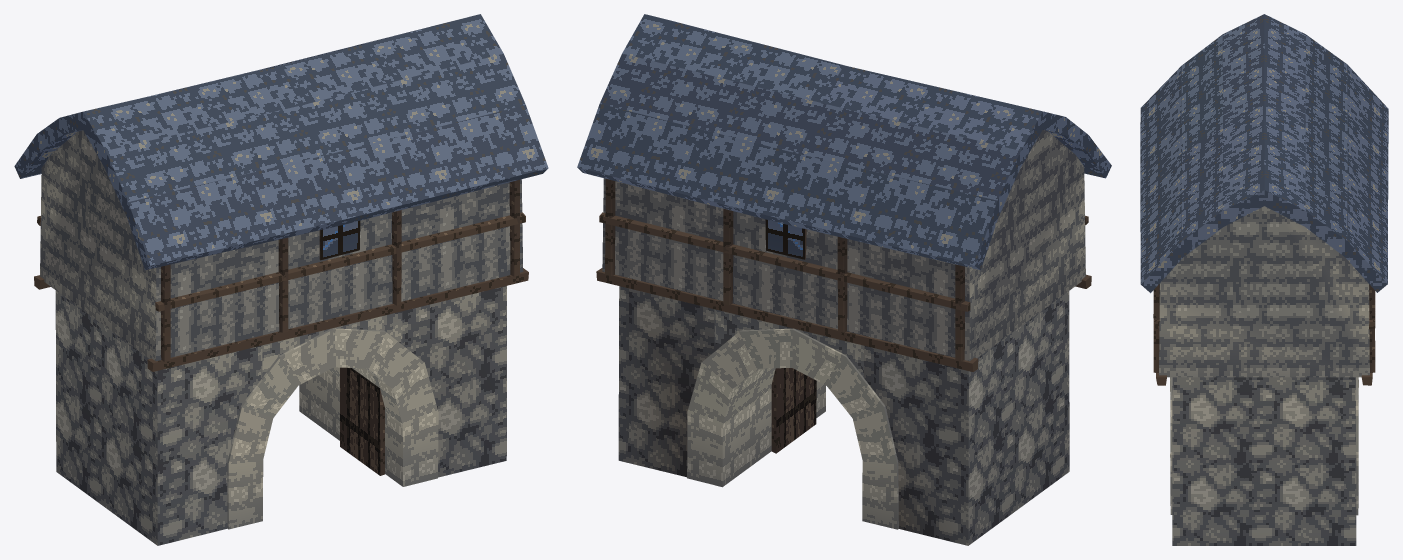
File: vlg.gatehouse__open.glb
3 renders of one model, left to right at view 1: azimuth 30°, elevation 25°; view 2: azimuth 150°, elevation 25°; view 3: azimuth 270°, elevation 25°, orthographic. The views are drawn at different scales.
Visible parts, largest first — view 1: kit_roof, kit_stonework, kit_walls, kit_frame, kit_fittings; view 2: kit_roof, kit_stonework, kit_walls, kit_frame, kit_fittings; view 3: kit_roof, kit_stonework, kit_walls, kit_frame.
Part boxes in pixels (x1=…): kit_roof: x1=14, y1=14, x2=548, y2=270; kit_stonework: x1=55, y1=286, x2=506, y2=545; kit_walls: x1=40, y1=130, x2=523, y2=361; kit_frame: x1=34, y1=180, x2=528, y2=371; kit_fittings: x1=319, y1=220, x2=384, y2=475; kit_roof: x1=577, y1=14, x2=1111, y2=270; kit_stonework: x1=618, y1=286, x2=1069, y2=545; kit_walls: x1=602, y1=130, x2=1085, y2=361; kit_frame: x1=596, y1=179, x2=1091, y2=371; kit_fittings: x1=765, y1=219, x2=816, y2=453; kit_roof: x1=1140, y1=14, x2=1388, y2=293; kit_stonework: x1=1170, y1=377, x2=1358, y2=545; kit_walls: x1=1159, y1=206, x2=1369, y2=377; kit_frame: x1=1153, y1=284, x2=1375, y2=385.
Bounding box in the file's own units: 9.12 × 8.82 × 5.41.
8 materials, 8 textured.
